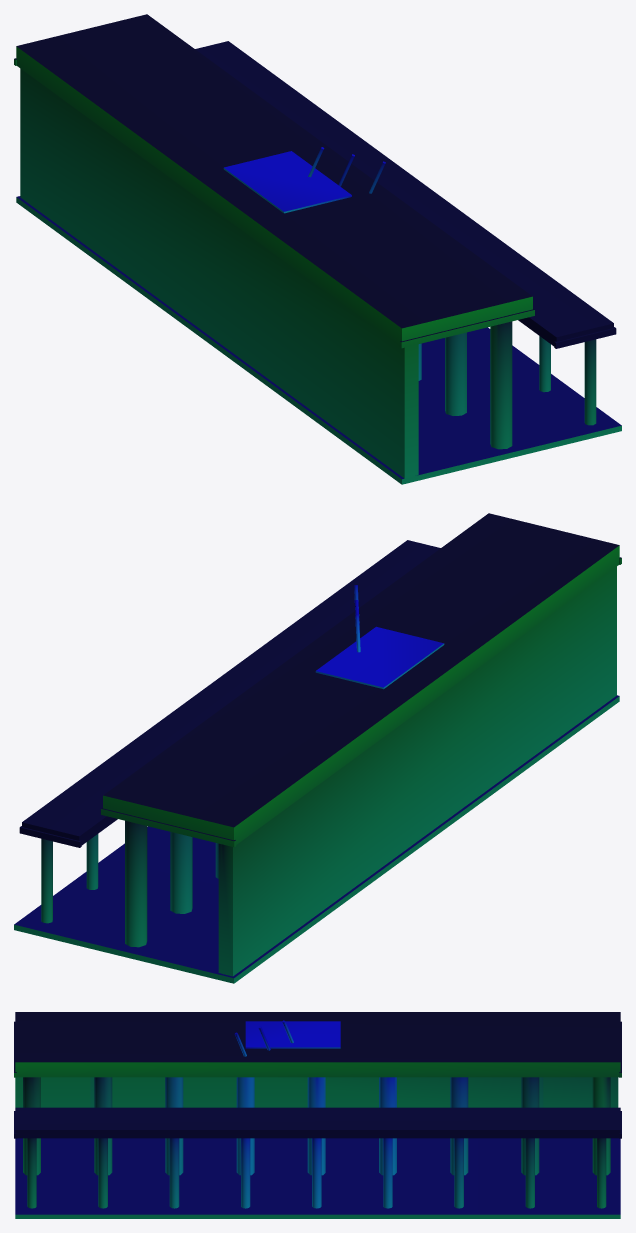
File: s_promenade_damaged.glb
The picture shows the model from 3 angles, top to bottom: view 1: azimuth 30°, elevation 25°; view 2: azimuth 150°, elevation 25°; view 3: azimuth 270°, elevation 25°; orthographic projection. The views are drawn at different scales.
Visible parts, largest first — view 1: lod0; view 2: lod0; view 3: lod0.
Boxes of the visible parts, left/top/right/bottom form: lod0: left=14, top=14, right=621, bottom=484; lod0: left=14, top=513, right=621, bottom=983; lod0: left=14, top=1012, right=621, bottom=1218.
Size of what is drawn, in the model's own units: 8.45 by 6.92 by 25.62.
